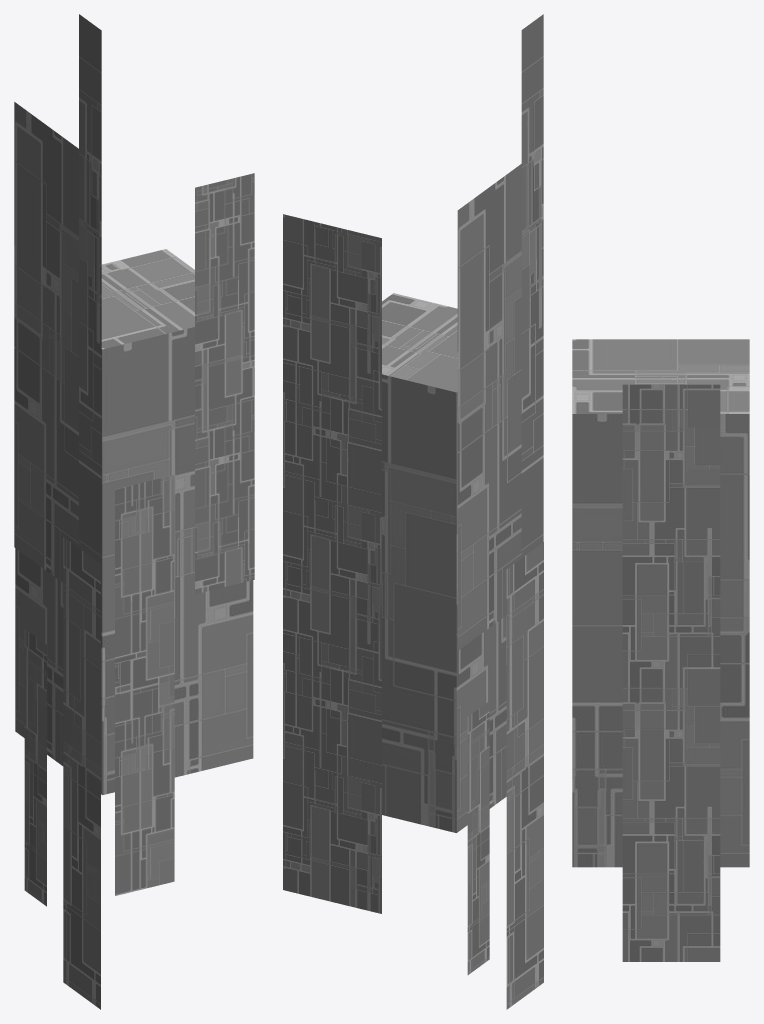
File: SM_architecture_module_01.glb
The picture shows the model from 3 angles, left to right: view 1: azimuth 30°, elevation 25°; view 2: azimuth 150°, elevation 25°; view 3: azimuth 270°, elevation 25°; orthographic projection. The views are drawn at different scales.
Parts seen in each view (by area): view 1: SM_architecture_module_01; view 2: SM_architecture_module_01; view 3: SM_architecture_module_01.
Boxes of the visible parts, <box> form: SM_architecture_module_01: <box>14,14,254,1009</box>; SM_architecture_module_01: <box>283,14,543,1009</box>; SM_architecture_module_01: <box>572,339,749,961</box>.
Size of the model in its own units: 1.32 by 7.01 by 1.13.
2 materials, 2 textured.
